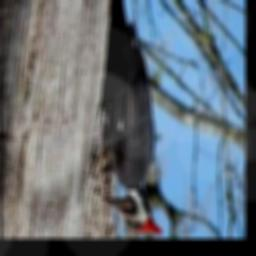Woodpecker: (98, 21, 163, 235)
